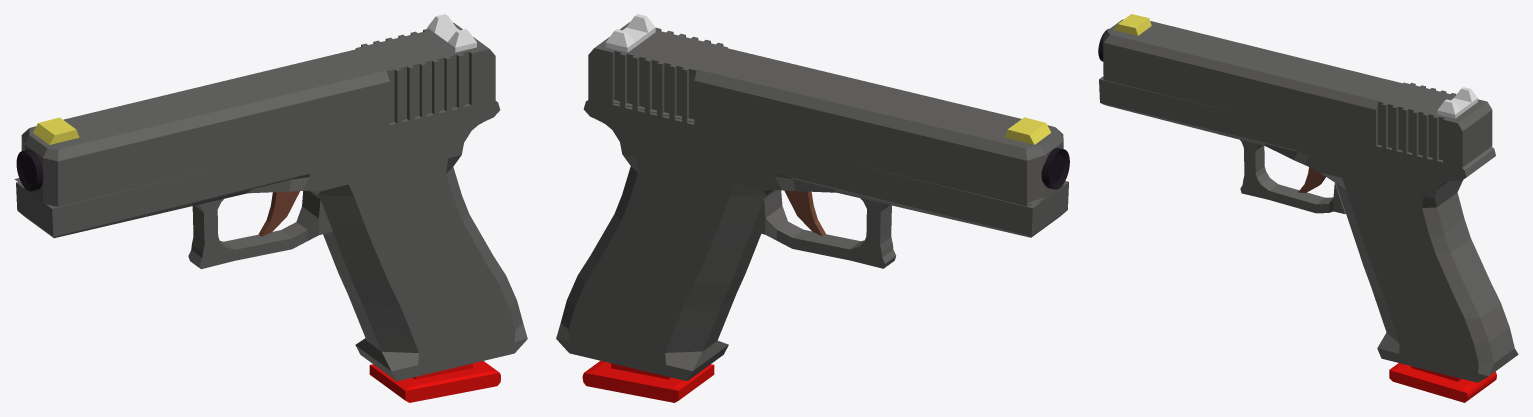
The model's file is Pistol 1.fbx.
3 views of the same model, side by side, from view 1: azimuth 30°, elevation 25°; view 2: azimuth 150°, elevation 25°; view 3: azimuth 330°, elevation 25° (orthographic). The views are drawn at different scales.
Visible parts, largest first — view 1: Cube, Cube.001, Cube.005, Cube.004, Cylinder, Cube.002, Cube.003; view 2: Cube, Cube.001, Cube.005, Cube.004, Cylinder, Cube.002, Cube.003; view 3: Cube, Cube.001, Cube.005, Cube.004, Cube.003.
Boxes of the visible parts, bbox=[...] form: Cube: bbox=[14, 100, 527, 381]; Cube.001: bbox=[21, 22, 495, 206]; Cube.005: bbox=[369, 361, 500, 402]; Cube.004: bbox=[427, 14, 476, 52]; Cylinder: bbox=[16, 149, 43, 191]; Cube.002: bbox=[258, 191, 299, 236]; Cube.003: bbox=[33, 117, 79, 144]; Cube: bbox=[556, 99, 1068, 381]; Cube.001: bbox=[588, 22, 1063, 206]; Cube.005: bbox=[582, 360, 714, 402]; Cube.004: bbox=[605, 14, 655, 52]; Cylinder: bbox=[1041, 148, 1069, 189]; Cube.002: bbox=[784, 190, 825, 236]; Cube.003: bbox=[1004, 117, 1051, 144]; Cube: bbox=[1099, 76, 1518, 382]; Cube.001: bbox=[1103, 19, 1492, 167]; Cube.005: bbox=[1389, 363, 1496, 402]; Cube.004: bbox=[1437, 87, 1477, 118]; Cube.003: bbox=[1113, 14, 1151, 35].
Size of the model in its own units: 356 by 250 by 46.07.
